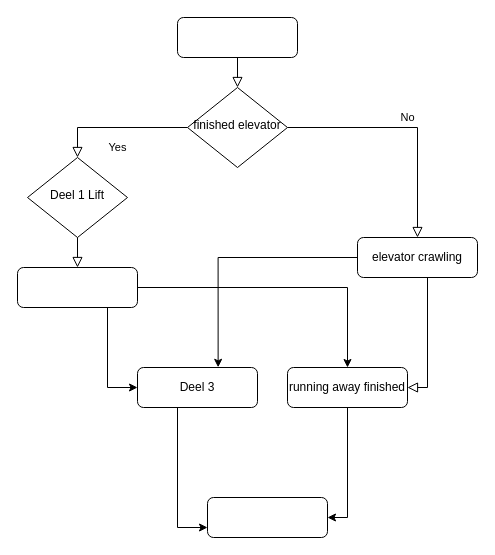
This 495x555 diagram has some shape labels left out. Here are the shapes that lost their labels. From the top down, the centre of each, then its label:
At (237,37): "Introductie".
At (77,287): "RoyLobby".
At (267,517): "Generator".
